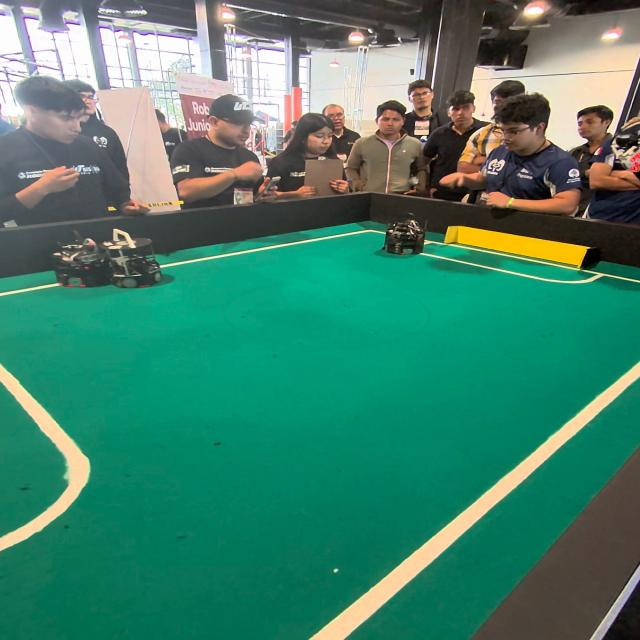Robot: (106, 225, 166, 291), (50, 228, 110, 290), (384, 214, 430, 260)
